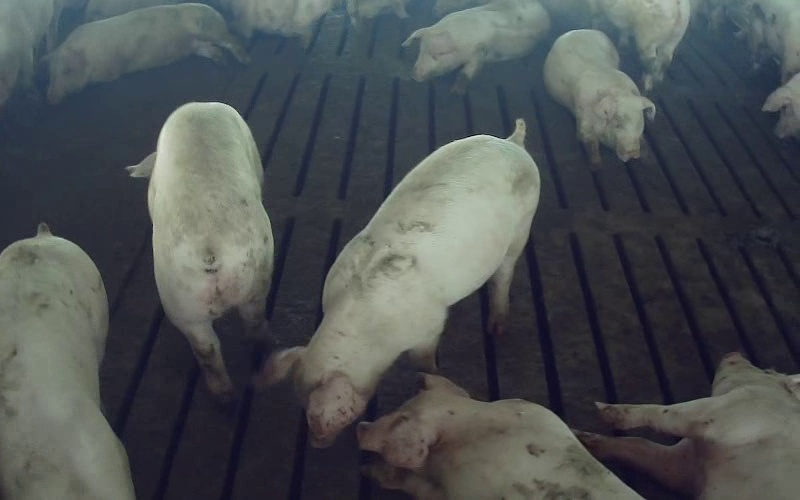pig: (260, 120, 539, 445), (127, 102, 273, 400), (0, 223, 133, 499), (357, 374, 642, 499), (577, 353, 799, 499), (47, 3, 248, 103), (544, 29, 655, 166), (403, 0, 549, 93)
